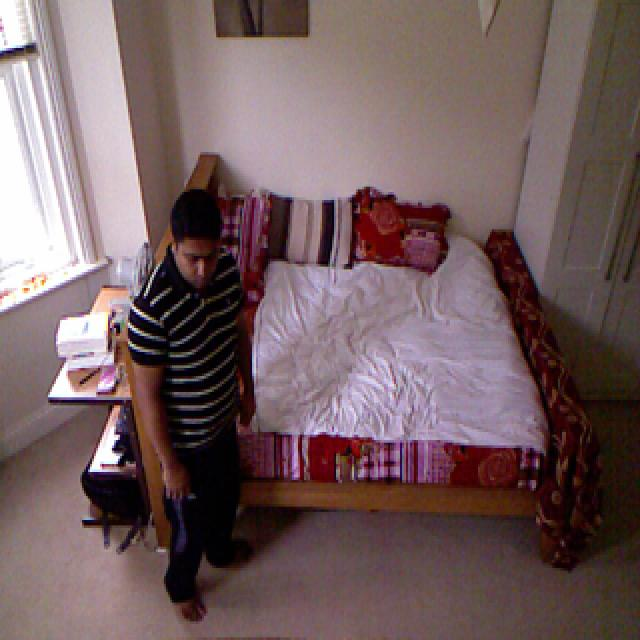standing: (131, 187, 262, 635)
